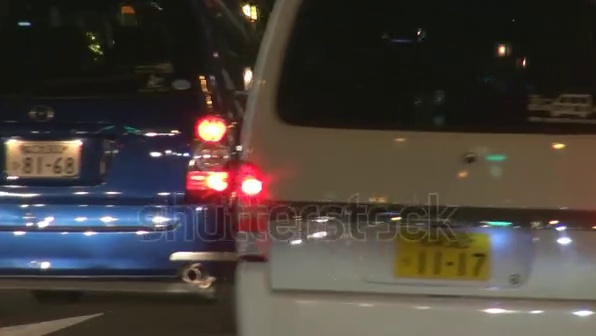licenseplate: (394, 227, 495, 287), (9, 139, 94, 179)
